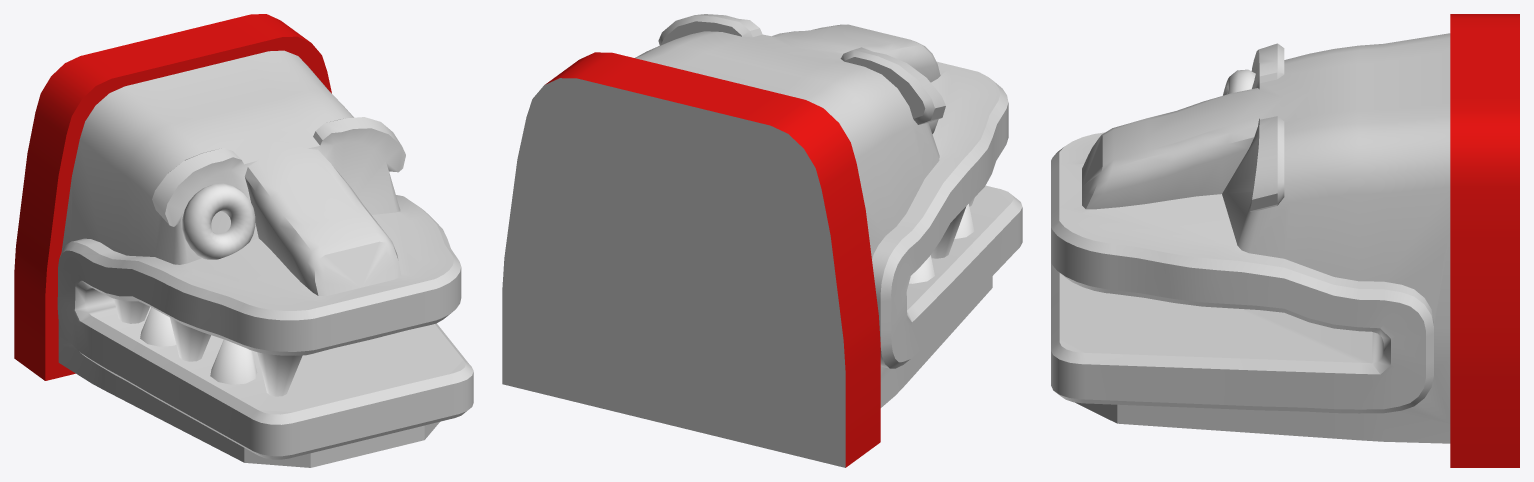
The model's file is Quetzal.fbx.
The picture shows the model from 3 angles, left to right: view 1: azimuth 30°, elevation 25°; view 2: azimuth 150°, elevation 25°; view 3: azimuth 270°, elevation 25°; orthographic projection. The views are drawn at different scales.
Visible parts, largest first — view 1: Cube, Teeth, Torus.006; view 2: Cube, Teeth; view 3: Cube, Torus.006.
Boxes of the visible parts, bbox=[...] form: Cube: bbox=[14, 14, 473, 467]; Teeth: bbox=[114, 298, 302, 396]; Torus.006: bbox=[182, 183, 255, 259]; Cube: bbox=[502, 14, 1022, 467]; Teeth: bbox=[909, 197, 974, 283]; Cube: bbox=[1051, 14, 1519, 467]; Torus.006: bbox=[1223, 69, 1255, 95].
Size of the model in its own units: 113 by 102 by 135.
